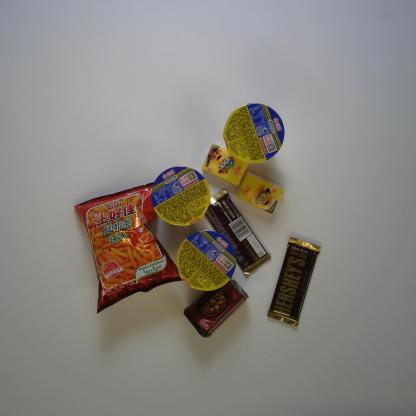Canned Food: (182, 276, 250, 339)
Chocolate: (205, 188, 271, 278), (265, 236, 322, 330)
Instant Noodles: (221, 102, 288, 167), (174, 229, 238, 294), (148, 165, 212, 229)
Puffed Food: (73, 181, 185, 314)
Tissue: (235, 169, 285, 216), (202, 143, 250, 189)
